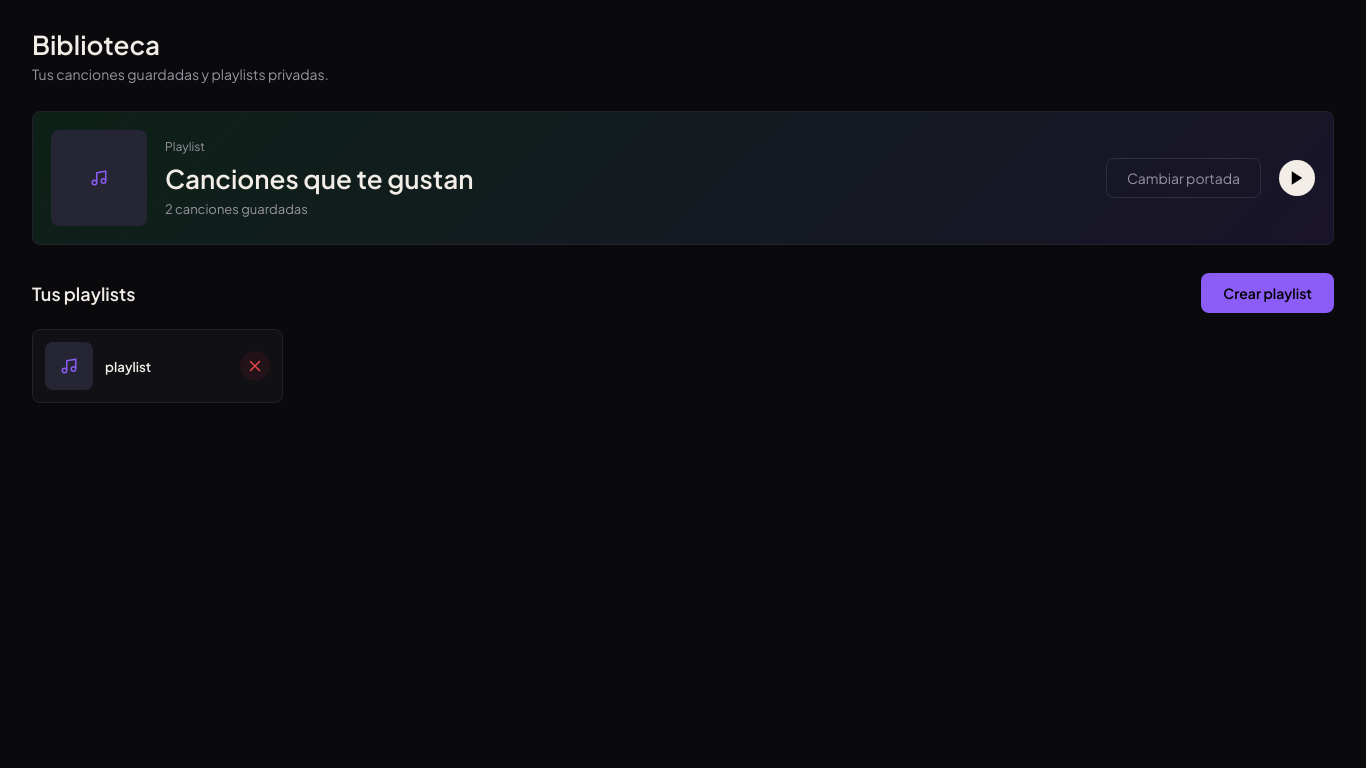
Test: LibraryPage › rejects creating a playlist with an exact duplicate name before sending the request
Check: the text "playlist" is shown, box [105,358,151,374]
Click the button "Crear playlist": (1268, 293) [1201,273,1334,313]
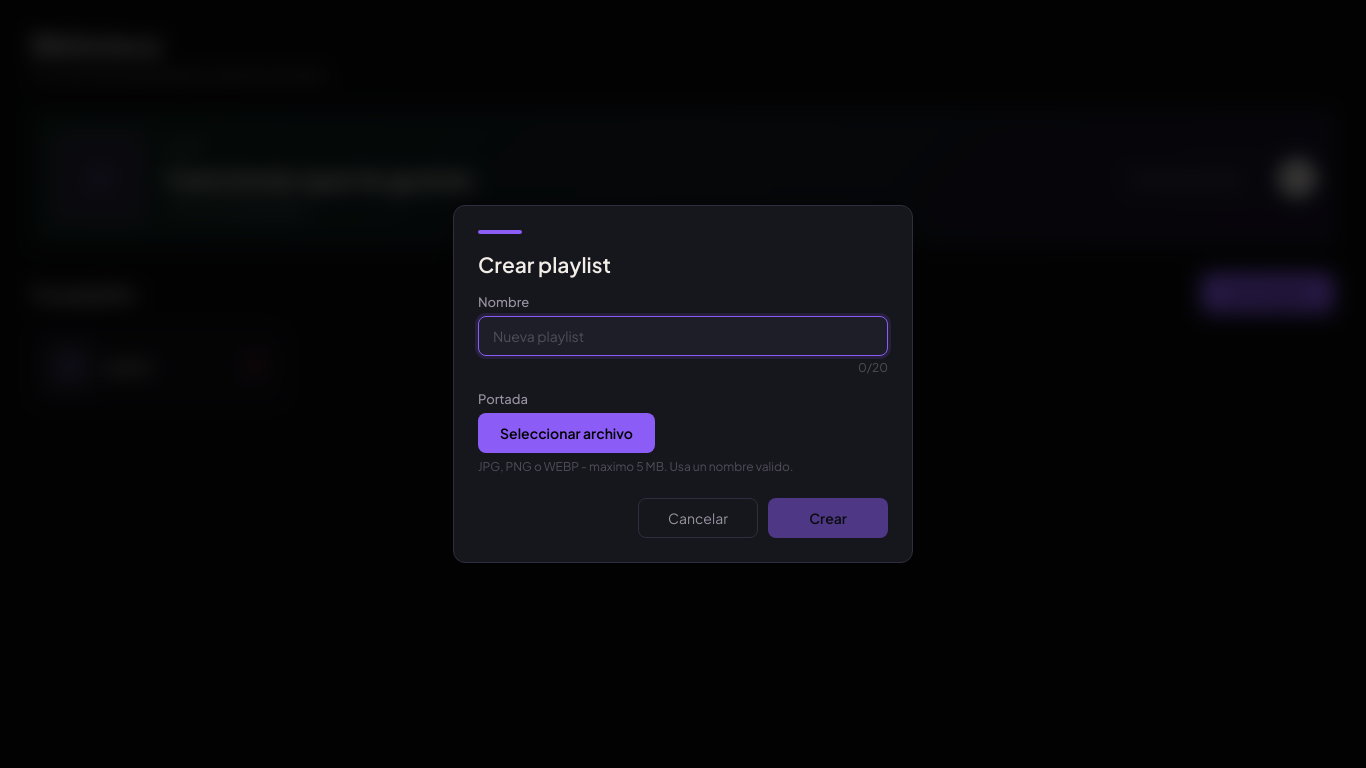
In the field named "Nombre de playlist": (683, 336) [478,316,888,356], type "playlist"
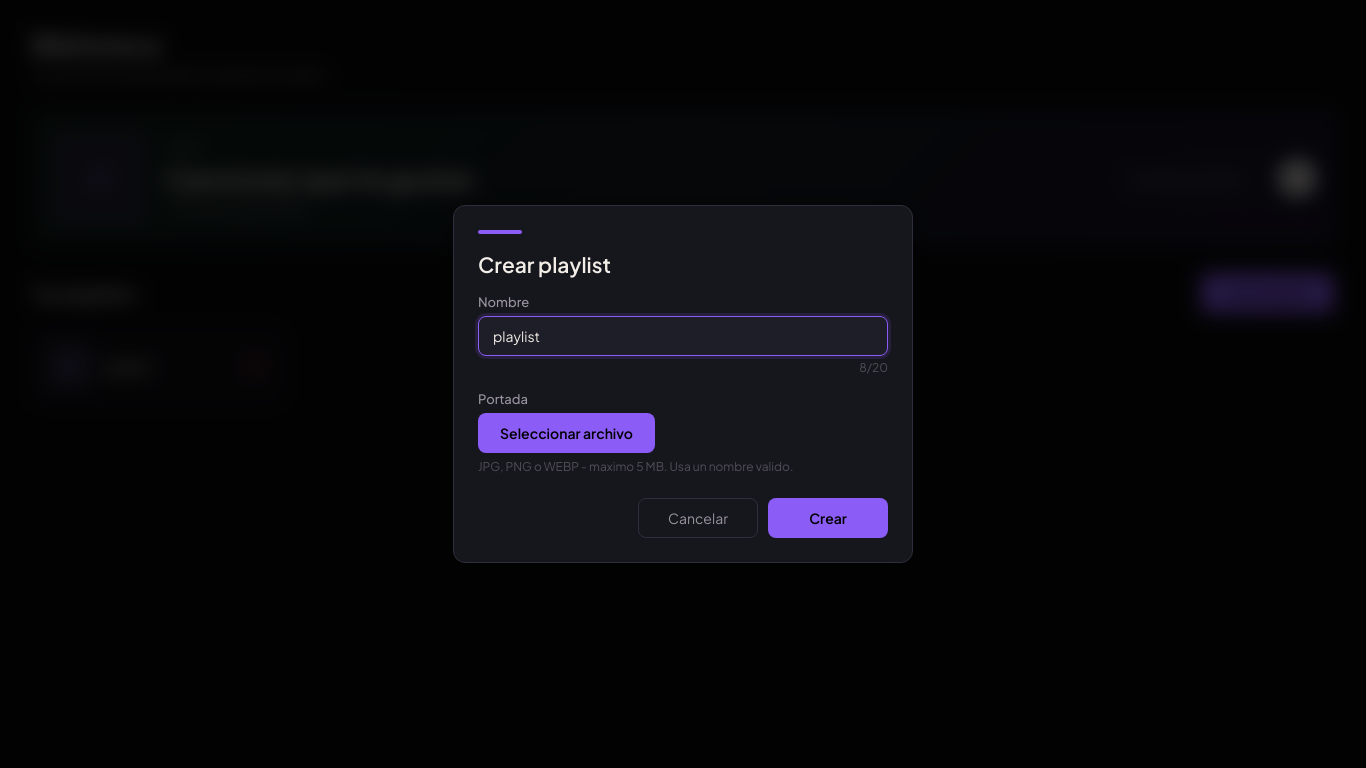
Click the button "Crear": (828, 518) [768,498,888,538]
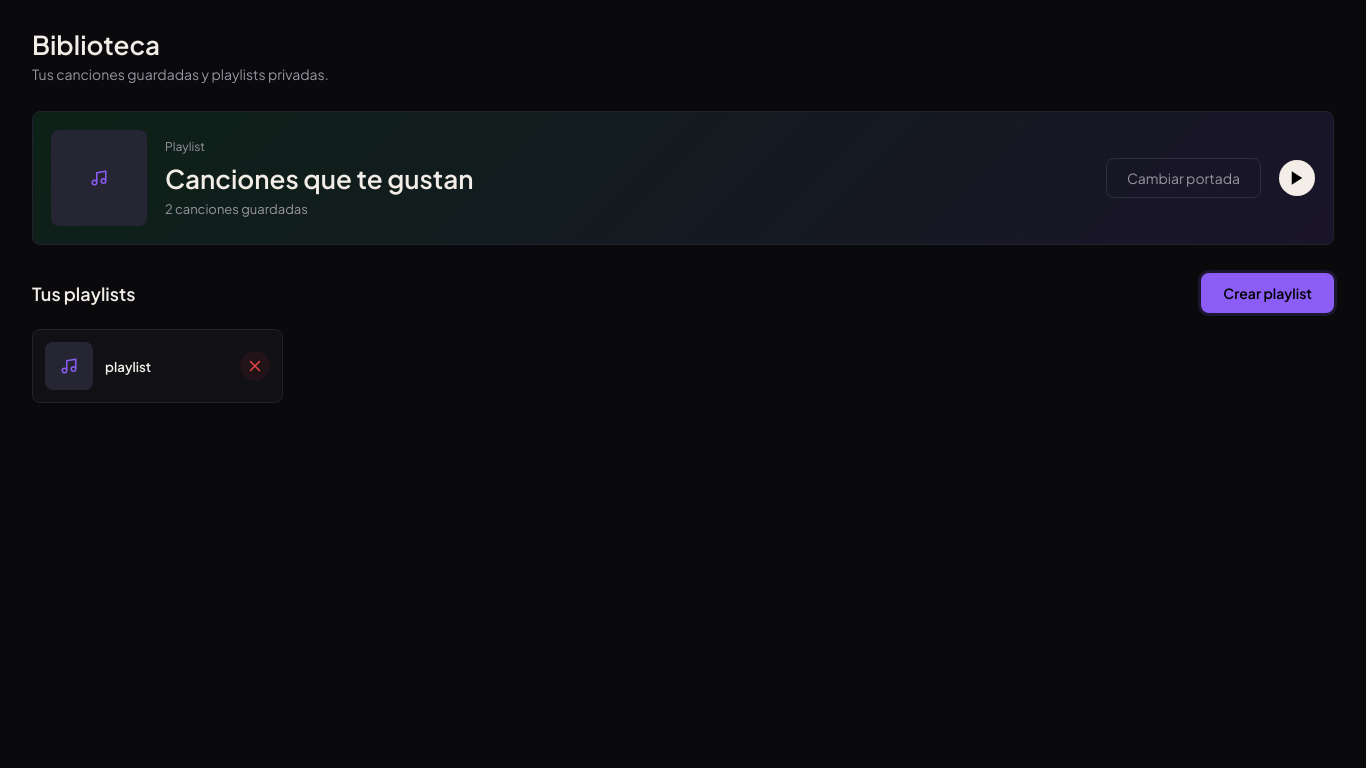
Check: the dialog is gone
